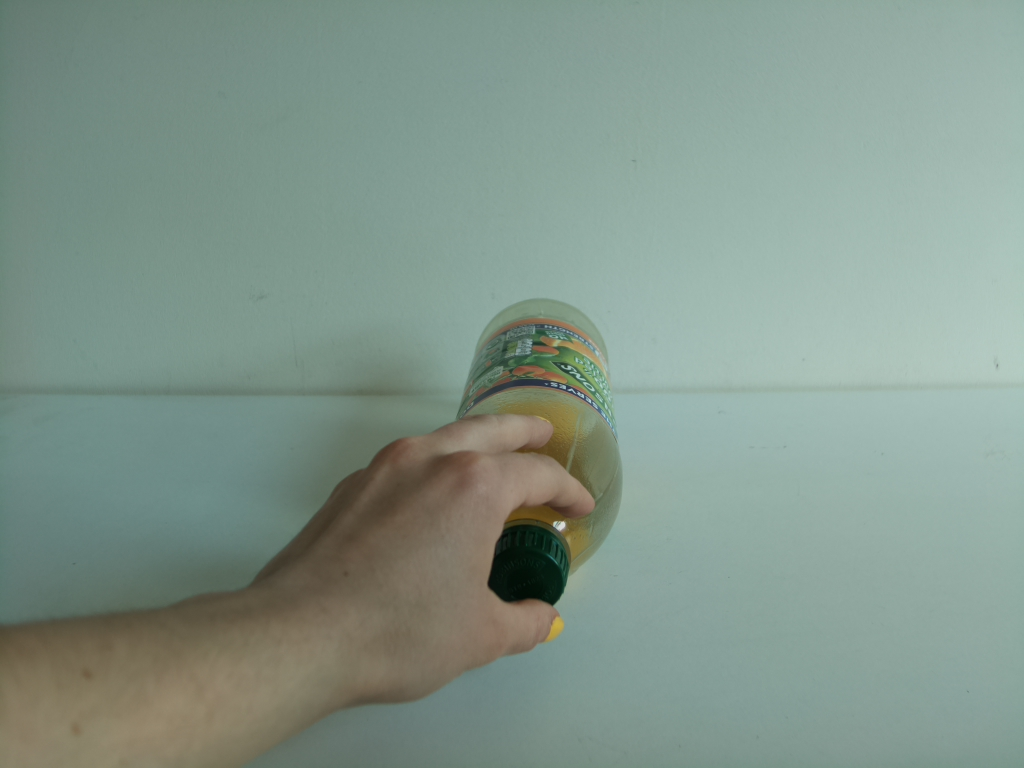juice: (454, 294, 624, 619)
